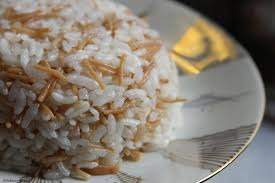pirinc_pilavi: (0, 0, 182, 179)
